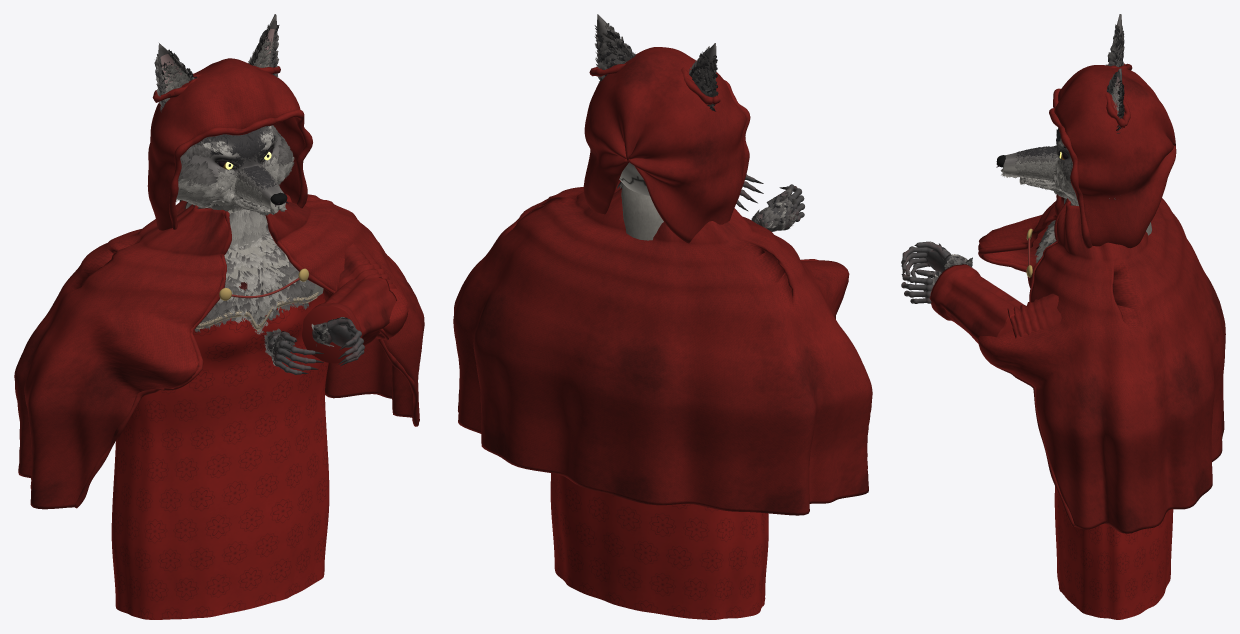
Rendered from wolf.glb.
3 views of the same model, side by side, from view 1: azimuth 30°, elevation 25°; view 2: azimuth 150°, elevation 25°; view 3: azimuth 270°, elevation 25° (orthographic). The views are drawn at different scales.
Parts seen in each view (by area): view 1: Body, Body_Cape, Hood, Face_Fur, Body_Fur, SleeveFore, Body_Cape_Hem, Hood_Hem, Face, Ears_Fur, SleeveUpper, Neck_Fur (+4 smaller); view 2: Body_Cape, Body, Hood, Ears_Fur, Neck, Hood_Hem, Hand_L_Fur, Ears, Hand_L; view 3: Body_Cape, Hood, Body, SleeveFore, Face_Fur, Body_Cape_Hem, Hood_Hem, SleeveUpper, Hand_L, Ears_Fur, Face, Hand_R.
Boxes of the visible parts, box(x1,y1,x2,y2) form: Body: box(111, 232, 329, 619); Body_Cape: box(14, 194, 424, 509); Hood: box(147, 58, 304, 230); Face_Fur: box(176, 125, 294, 215); Body_Fur: box(194, 228, 315, 334); SleeveFore: box(302, 277, 396, 363); Body_Cape_Hem: box(74, 211, 418, 508); Hood_Hem: box(152, 65, 312, 229); Face: box(180, 126, 285, 211); Ears_Fur: box(154, 24, 279, 112); SleeveUpper: box(323, 243, 396, 301); Neck_Fur: box(179, 200, 268, 248); Body_Cape: box(453, 179, 872, 515); Body: box(550, 473, 768, 619); Hood: box(583, 47, 745, 243); Ears_Fur: box(594, 23, 718, 111); Neck: box(621, 183, 663, 240); Hood_Hem: box(589, 63, 750, 188); Hand_L_Fur: box(751, 189, 797, 231); Ears: box(597, 14, 716, 106); Hand_L: box(752, 184, 804, 230); Body_Cape: box(978, 194, 1225, 533); Hood: box(1054, 65, 1176, 248); Body: box(1044, 234, 1173, 619); SleeveFore: box(929, 264, 1022, 343); Face_Fur: box(1000, 128, 1115, 205); Body_Cape_Hem: box(978, 194, 1074, 526); Hood_Hem: box(1049, 63, 1132, 248); SleeveUpper: box(1007, 293, 1061, 338); Hand_L: box(901, 241, 970, 277); Ears_Fur: box(1105, 24, 1124, 133); Face: box(1002, 134, 1073, 198); Hand_R: box(901, 269, 940, 303).
Bounding box in the file's own units: 1.39 × 1.86 × 1.03.
22 materials, 13 textured.
